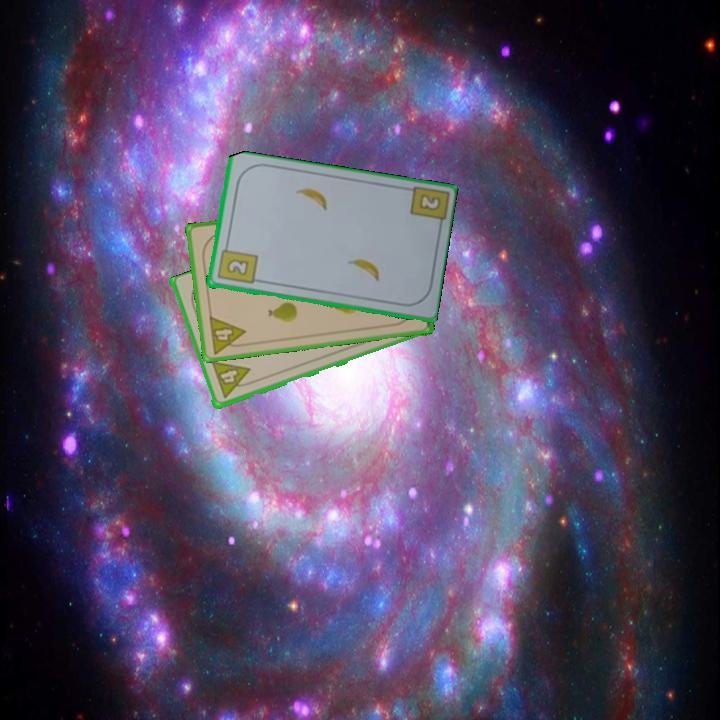2b: (214, 240, 260, 287), (415, 191, 441, 212)
4p: (208, 358, 256, 402), (206, 312, 250, 357)
